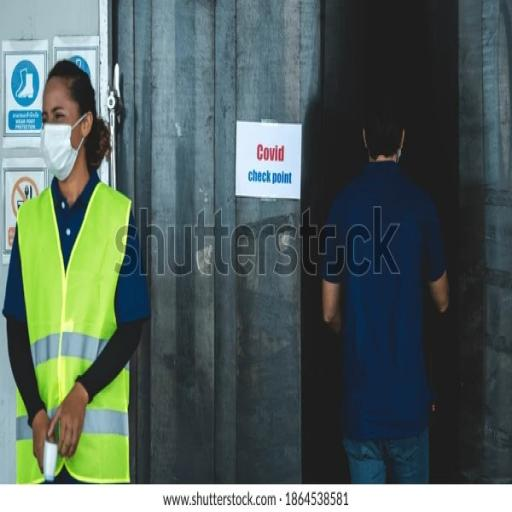mask: (38, 124, 80, 183)
